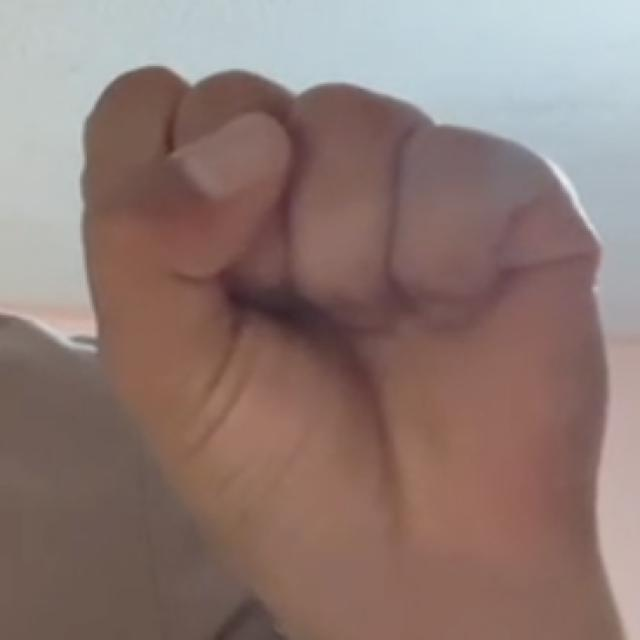S: (74, 49, 617, 605)
